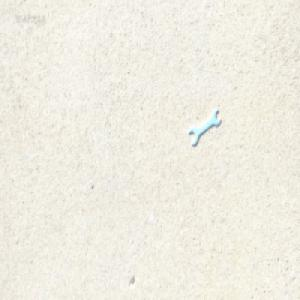Wrench: (189, 110, 220, 146)
